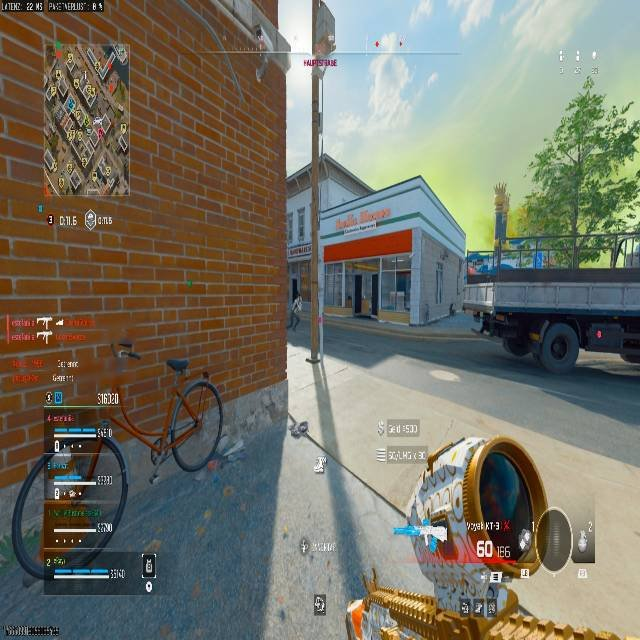player: (365, 32, 412, 116)
